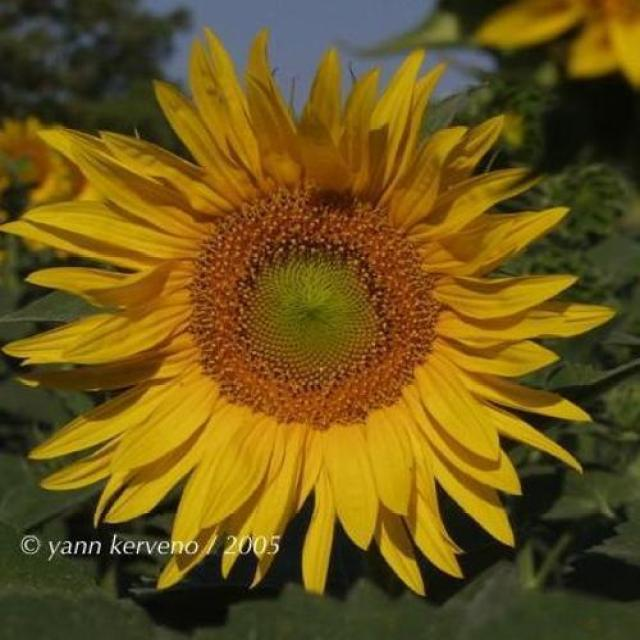sunflower: (16, 21, 602, 620)
